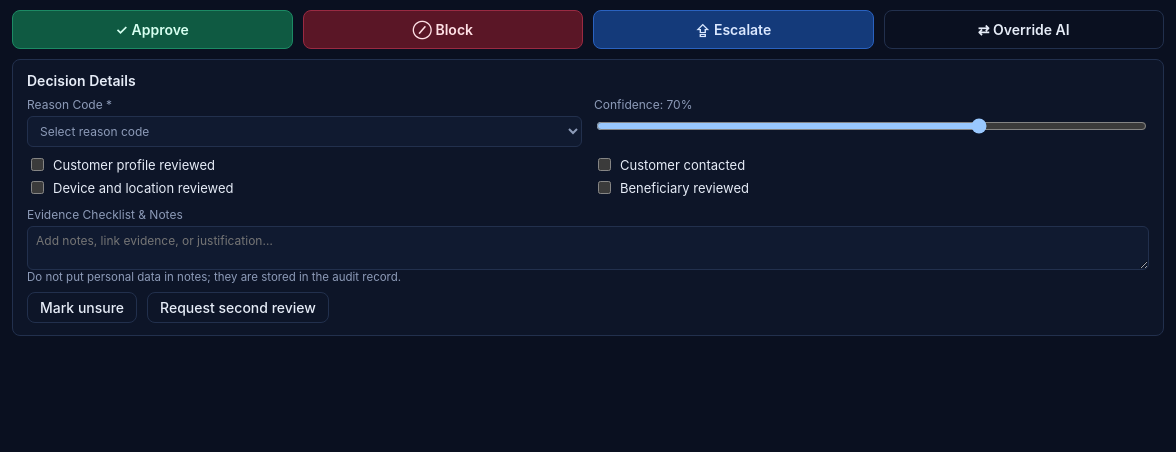
ActionPanel › warns when an override of a high-trust recommendation goes to second review
Click the button "⇄ Override AI": (1024, 30) [884,10,1164,49]
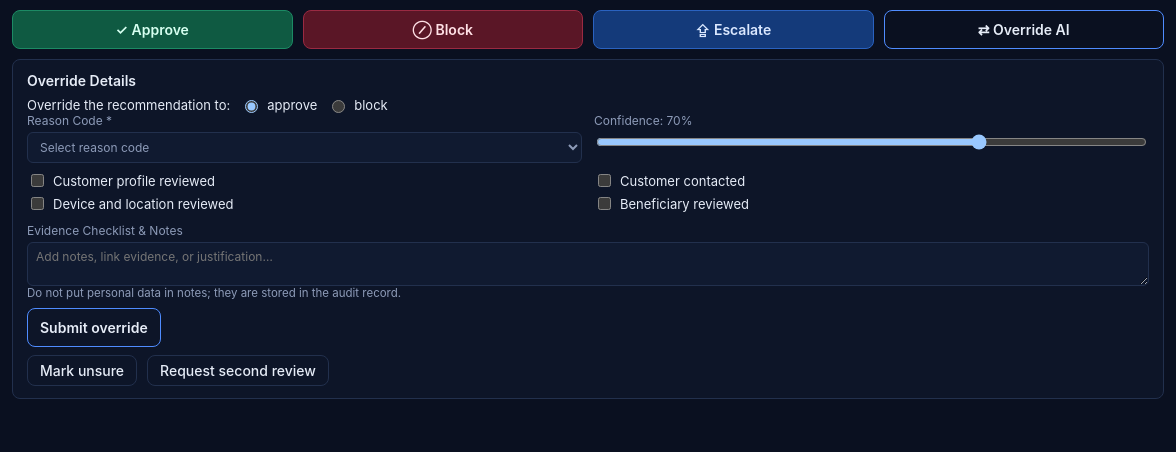
Select "Customer denied the transaction" in the dropdown labelled "Reason Code": (304, 148) [27,132,582,163]
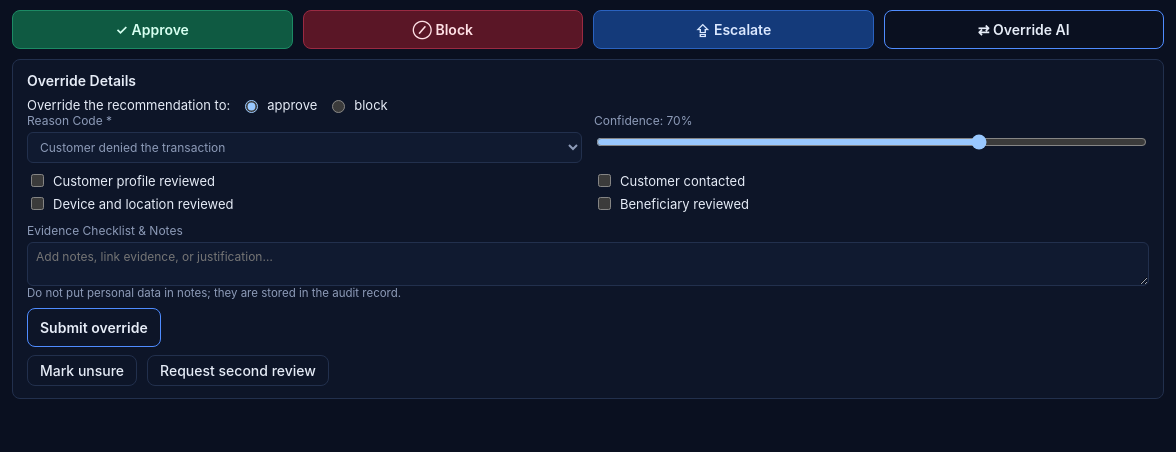
Click the button "Submit override": (94, 328) [27,308,161,347]
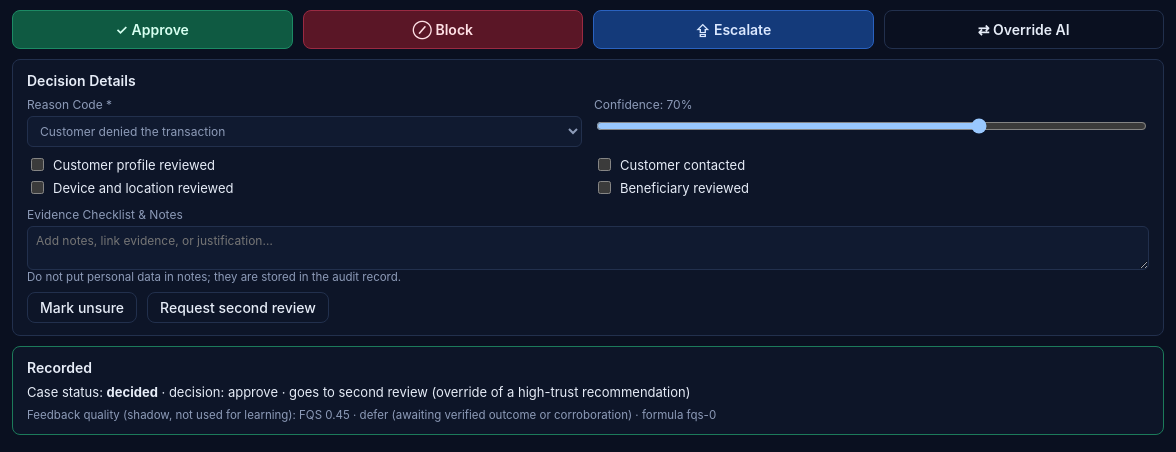
Check: the message with test id "action-result" shows "second review", box [278,384,690,400]
